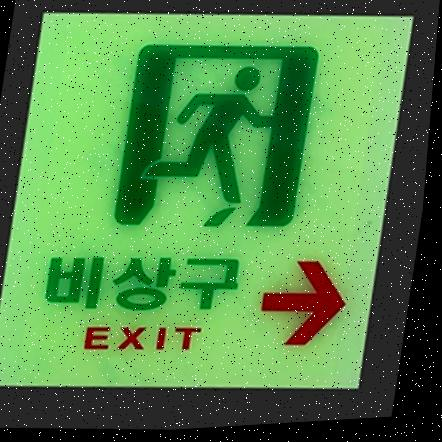emergency_exit: (1, 2, 437, 430)
